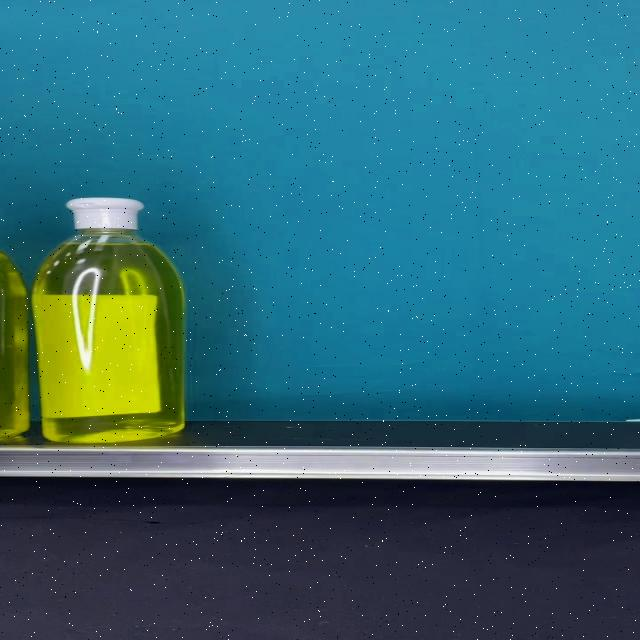Bottle: (33, 198, 184, 442)
Cap: (66, 198, 146, 230)
